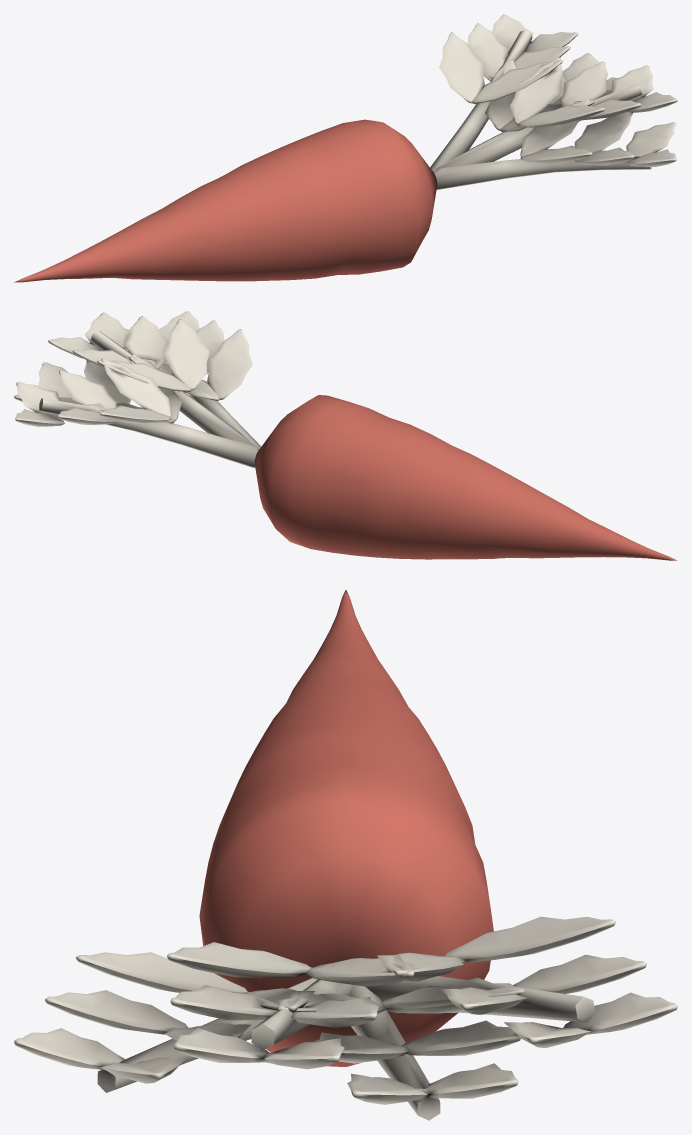
File: food_carrot.glb
The picture shows the model from 3 angles, top to bottom: view 1: azimuth 30°, elevation 25°; view 2: azimuth 150°, elevation 25°; view 3: azimuth 270°, elevation 25°; orthographic projection. The views are drawn at different scales.
Visible parts, largest first — view 1: PART; view 2: PART; view 3: PART.
Boxes of the visible parts, x1,y1,x2,y2 form: PART: [14, 14, 677, 282]; PART: [14, 311, 676, 560]; PART: [14, 590, 677, 1120].
Size of the model in its own units: 0.2145 by 0.0466 by 0.1015.
